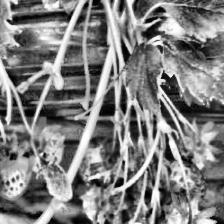Gray Mold: (32, 150, 73, 202)
